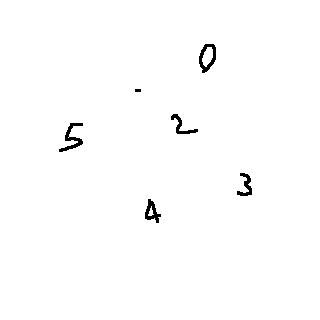.: (129, 83, 145, 95)
0: (195, 36, 223, 77)
2: (168, 103, 205, 139)
3: (232, 168, 267, 210)
4: (138, 195, 175, 233)
5: (55, 119, 89, 156)
